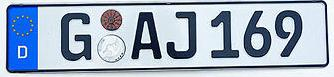1: (209, 9, 241, 59)
6: (243, 8, 273, 59)
9: (273, 8, 304, 58)
A: (129, 10, 163, 61)
G: (59, 12, 93, 63)
J: (166, 10, 198, 60)
